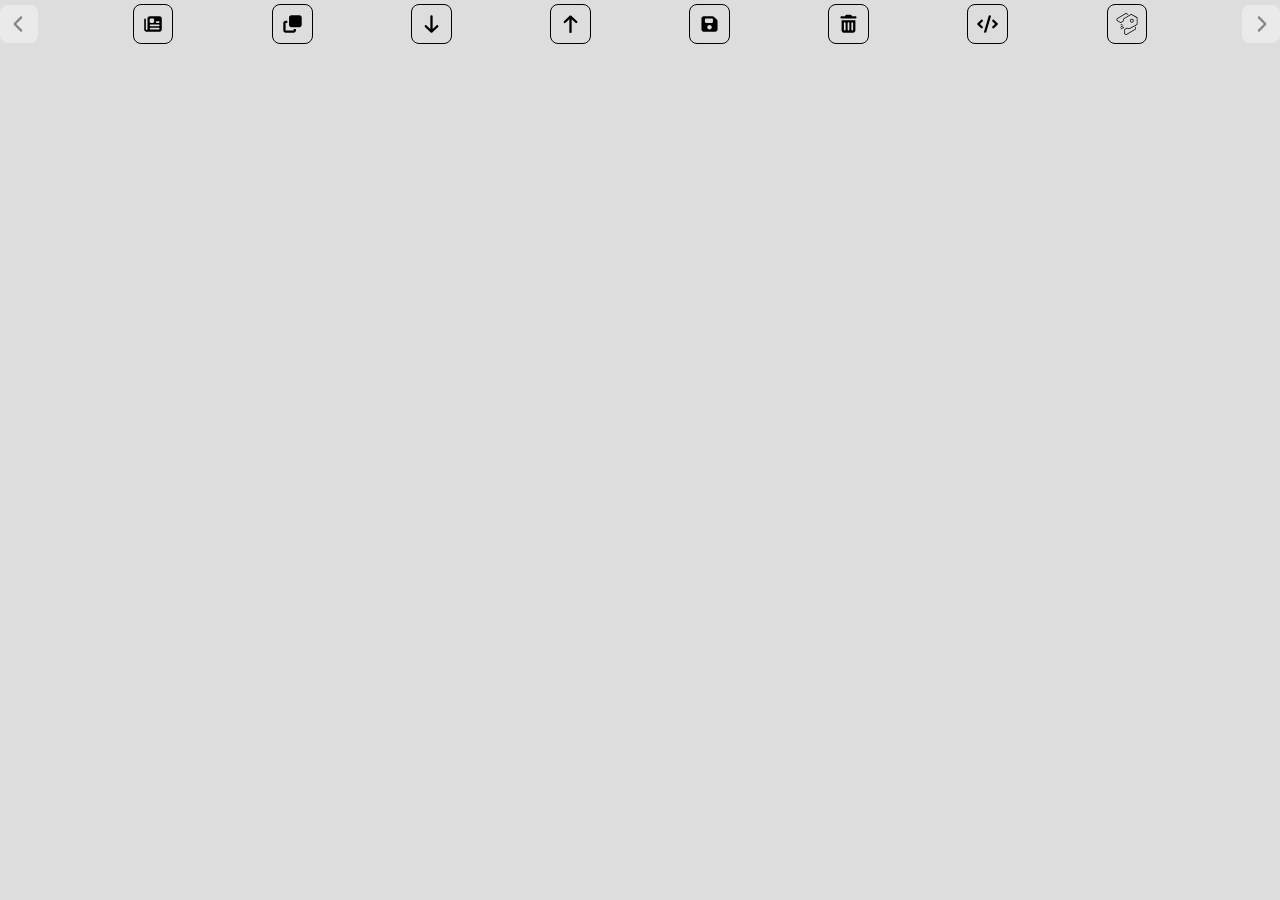
Test case: OptionenFrameTextbild2 › öffnet den ConfirmDialog beim Klick auf Löschen
Click the button named "Löschen": (849,24) 828,4 -> 869,44
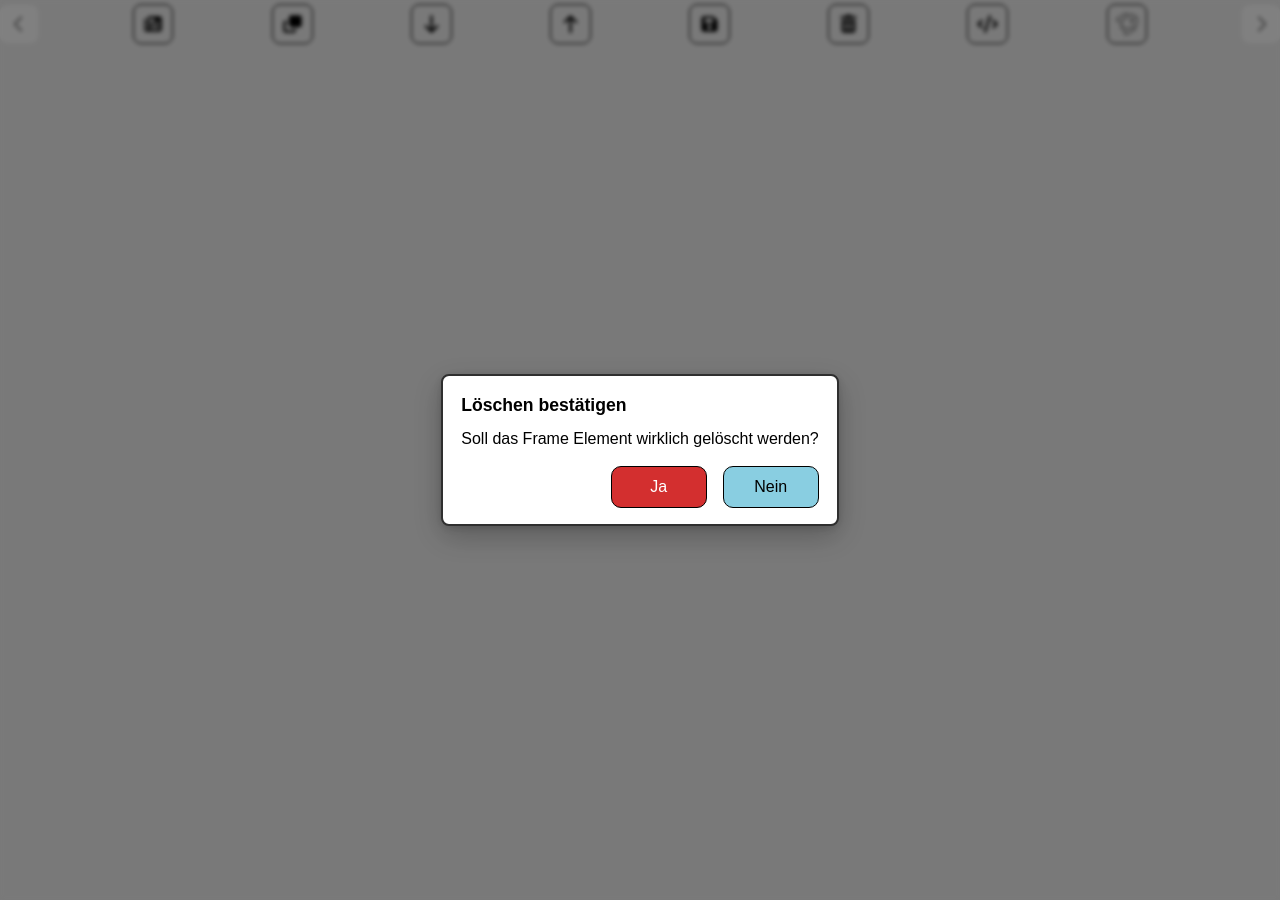
Check: the dialog is shown, box 441,374 -> 839,526
